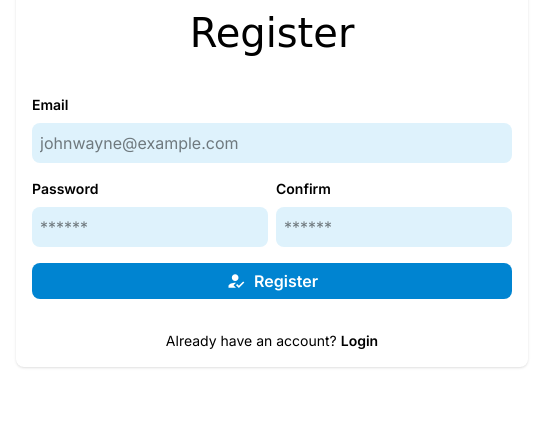
Test case: Register page › shows an error message when user leaves the Password field empty
This screenshot has width=545, height=425.
Type "test@example.com" into the field labelled "Email" at (272, 143), box [32,123,512,163]
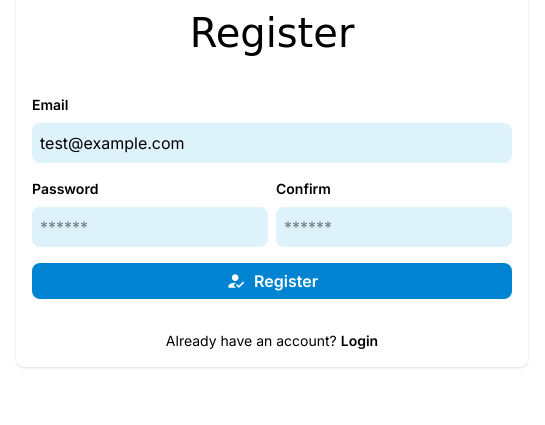
Click the button with test id "register-button" at (272, 281), box [32,263,512,299]
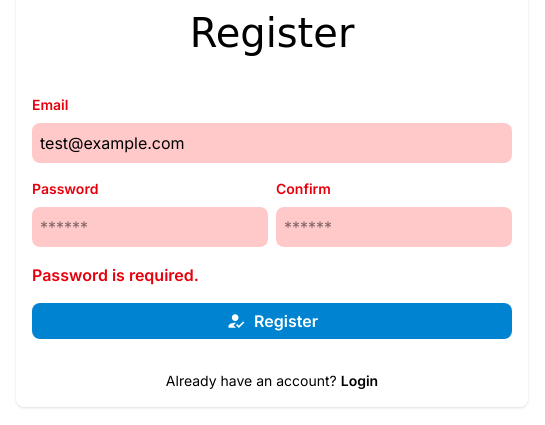
Check: the text "Password is required." is shown, box [32,265,199,285]
